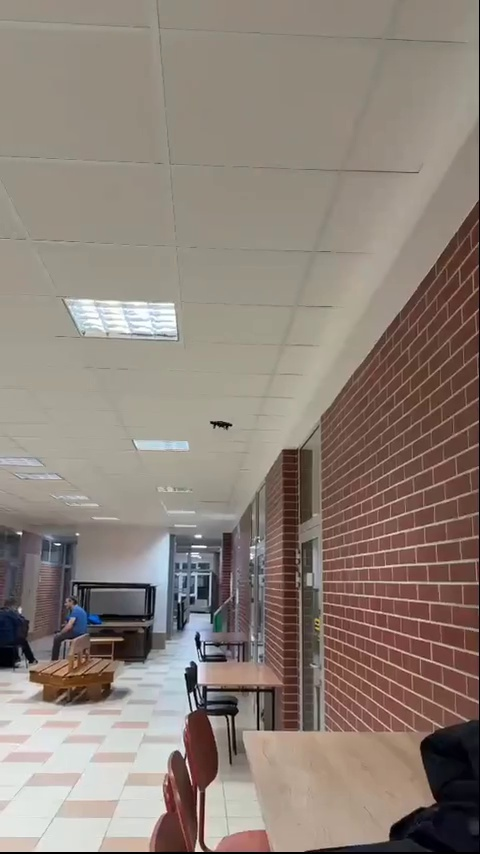drone: (210, 419, 234, 430)
no vest: (0, 592, 40, 665), (54, 589, 91, 656)
